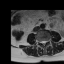CCS_normal: (43, 39, 44, 47)
LFS_stenosis: (46, 38, 48, 44)
LLS_normal: (44, 39, 46, 45)
RFS_normal: (39, 39, 41, 44)
RLS_normal: (41, 39, 43, 45)
